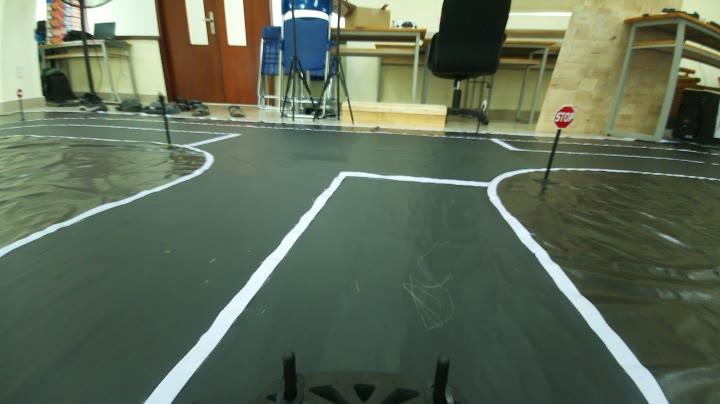stop: (552, 102, 578, 131)
